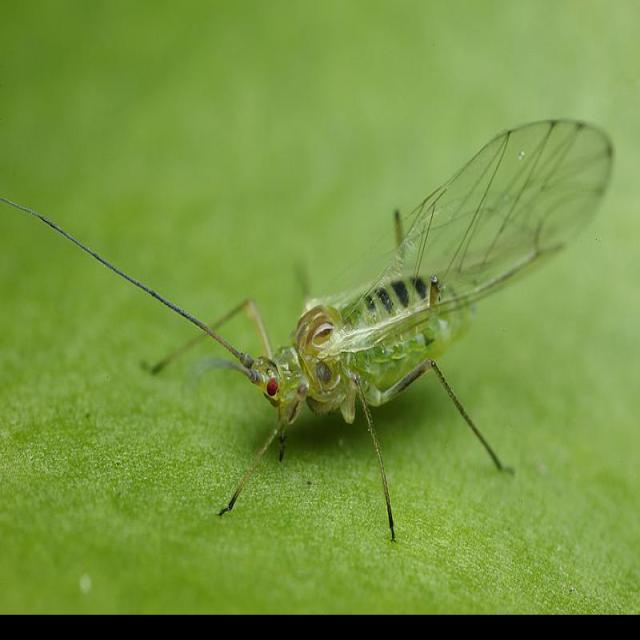Aphids: (111, 151, 575, 514)
